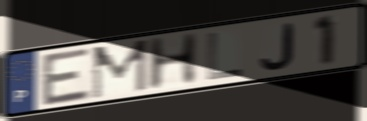1: (311, 14, 339, 68)
E: (40, 45, 93, 109)
H: (145, 31, 200, 94)
J: (259, 21, 297, 71)
L: (206, 30, 244, 82)
M: (89, 37, 150, 102)
